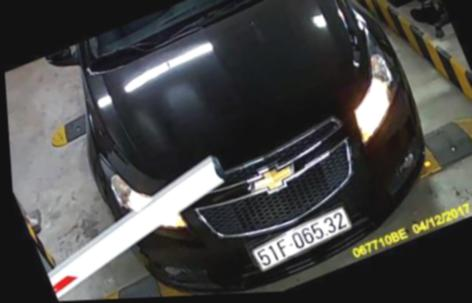License_Plate: (246, 204, 358, 271)
